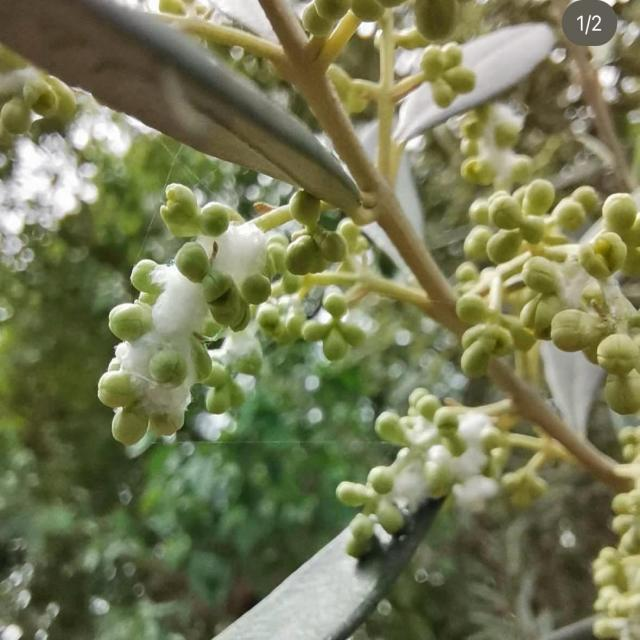Psyllid: (99, 184, 292, 442), (336, 388, 504, 566), (524, 194, 640, 361)
